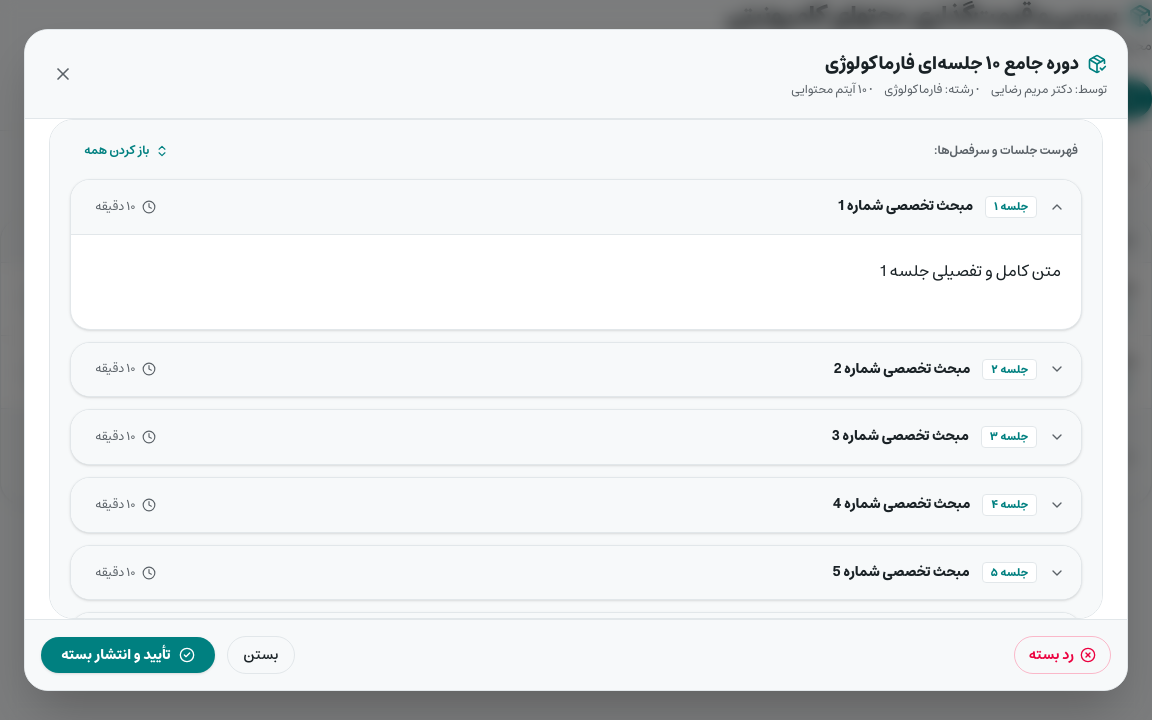
it: AdminCommunityContentPage Component Tests › 10. Smart Default: 10 sessions -> only first session expanded, other 9 collapsed as compact Curriculum outline
This screenshot has width=1152, height=720.
(page scrolled)
Expected: the heading "دوره جامع ۱۰ جلسه‌ای فارماکولوژی" is shown, x1=825 y1=50 x2=1079 y2=78
Expected: the text "جلسه ۱" is shown, x1=985 y1=196 x2=1037 y2=218
Step 1. Click the button "جلسه ۲ مبحث تخصصی شماره 2 ۱۰ دقیقه" → (1010,369), box x1=71 y1=342 x2=1081 y2=396
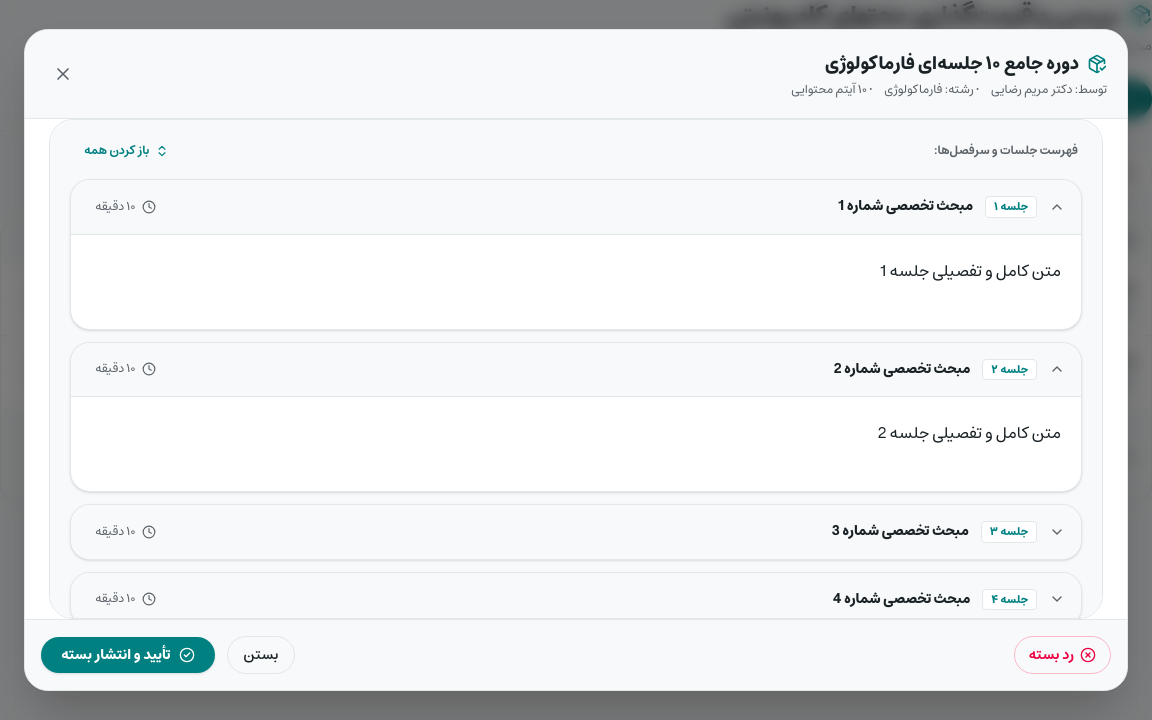
Expected: the text "متن کامل و تفصیلی جلسه 1" is shown, x1=880 y1=257 x2=1061 y2=285
Now the text "متن کامل و تفصیلی جلسه 2" is shown, box x1=878 y1=419 x2=1061 y2=447
Toggle All: Click "باز کردن همه"
Step 2. Click the button "باز کردن همه" → (127,151), box x1=74 y1=139 x2=179 y2=163
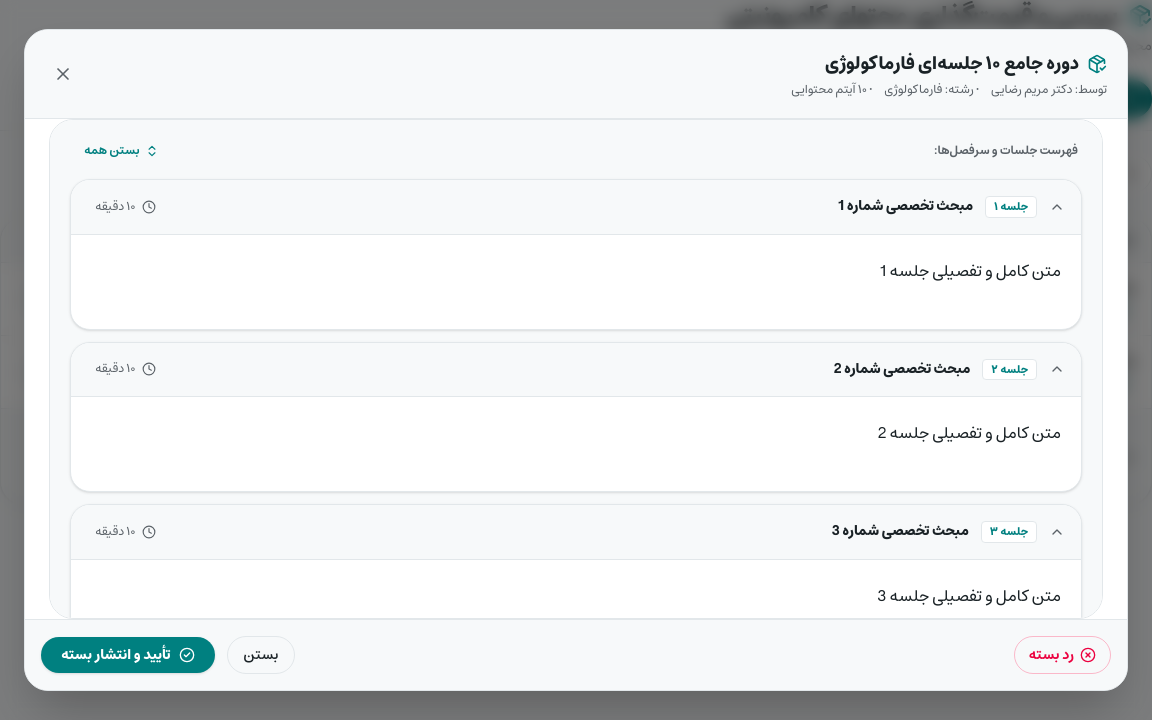
Now the button "بستن همه" is shown
Toggle All: Click "بستن همه"
Step 3. Click the button "بستن همه" → (122,151), box x1=74 y1=139 x2=169 y2=163
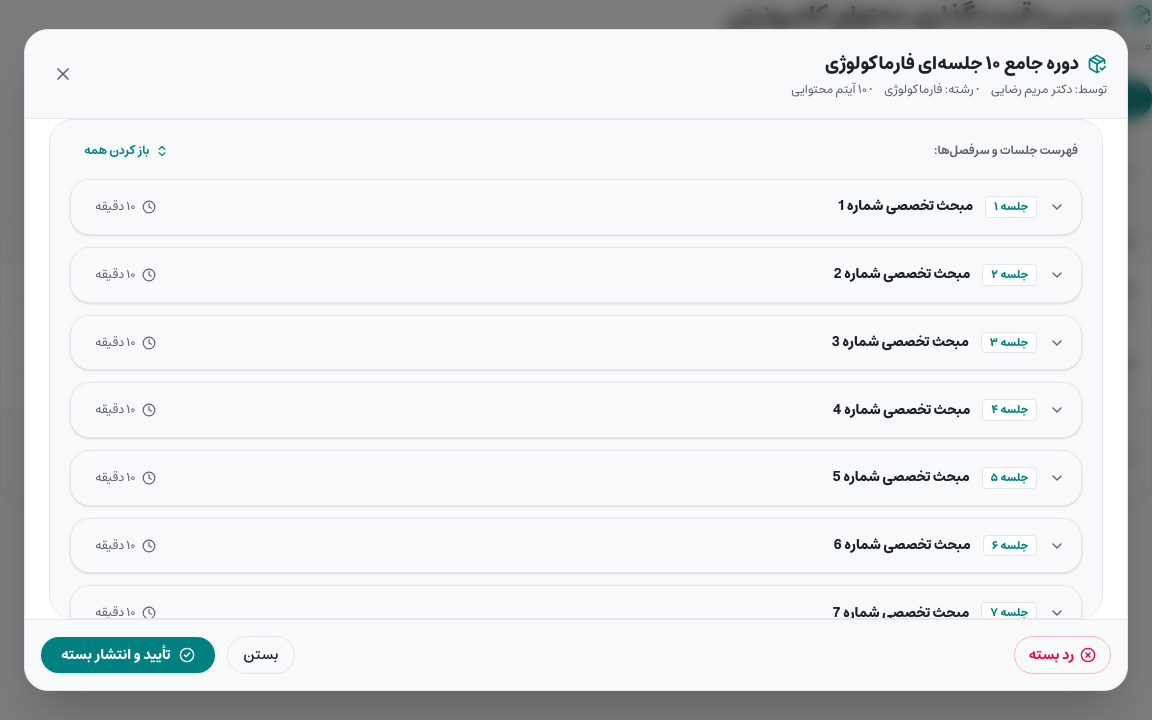
Now the text "متن کامل و تفصیلی جلسه 1" is gone
Now the text "متن کامل و تفصیلی جلسه 2" is gone
